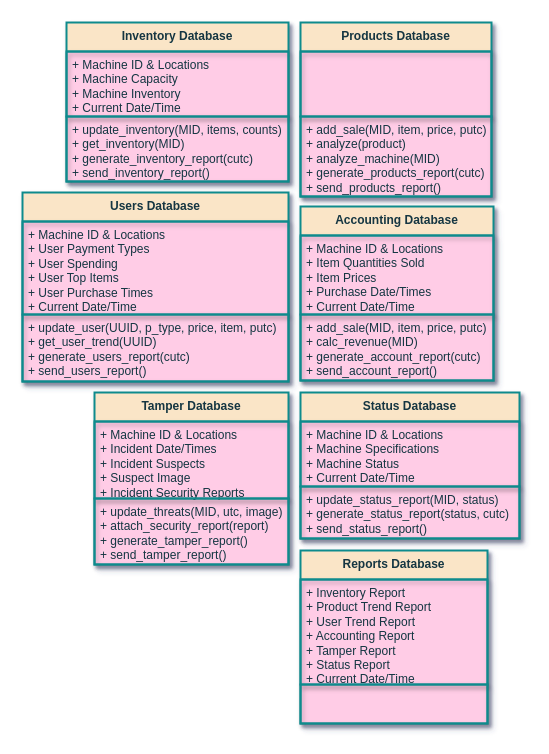
This 549x754 diagram has some shape labels left out. Each missing label, with the centre of its shape:
+ generate_reports(cutc) + send_reports(): the point at 394,705
+ Machine ID & Locations + Products + Purchase Date/Times + Current Date/Time: the point at 396,85
